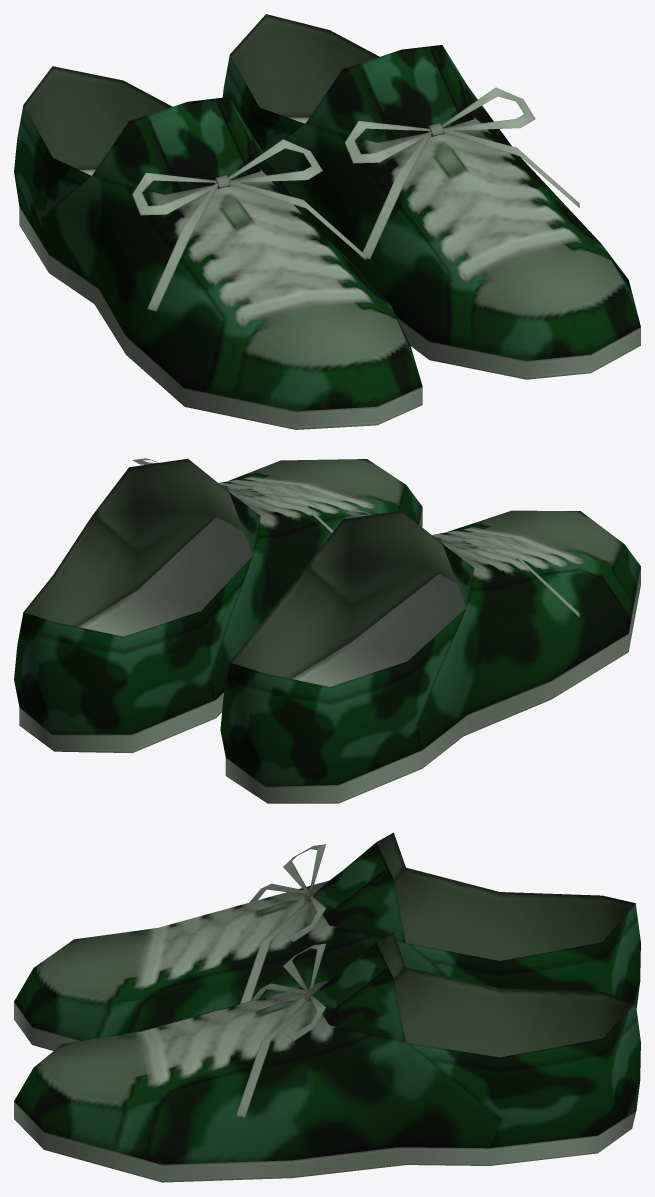
File: set_sneakers_03_a.fbx
3 renders of one model, top to bottom at view 1: azimuth 30°, elevation 25°; view 2: azimuth 150°, elevation 25°; view 3: azimuth 270°, elevation 25°, orthographic. The views are drawn at different scales.
Parts seen in each view (by area): view 1: sneakers_03_a_R, sneakers_03_a_L; view 2: sneakers_03_a_R, sneakers_03_a_L; view 3: sneakers_03_a_L, sneakers_03_a_R.
Boxes of the visible parts, x1,y1,x2,y2 form: sneakers_03_a_R: (14, 66, 422, 429); sneakers_03_a_L: (222, 14, 640, 379); sneakers_03_a_R: (220, 510, 640, 803); sneakers_03_a_L: (14, 458, 422, 753); sneakers_03_a_L: (14, 932, 640, 1182); sneakers_03_a_R: (14, 832, 640, 1050).
Bounding box in the file's own units: 19.19 × 8.05 × 24.51.
